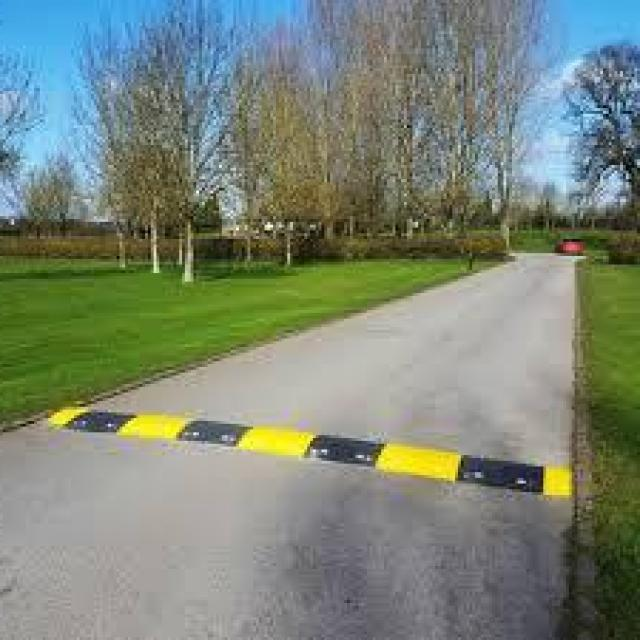speedbreaker: (34, 407, 582, 495)
